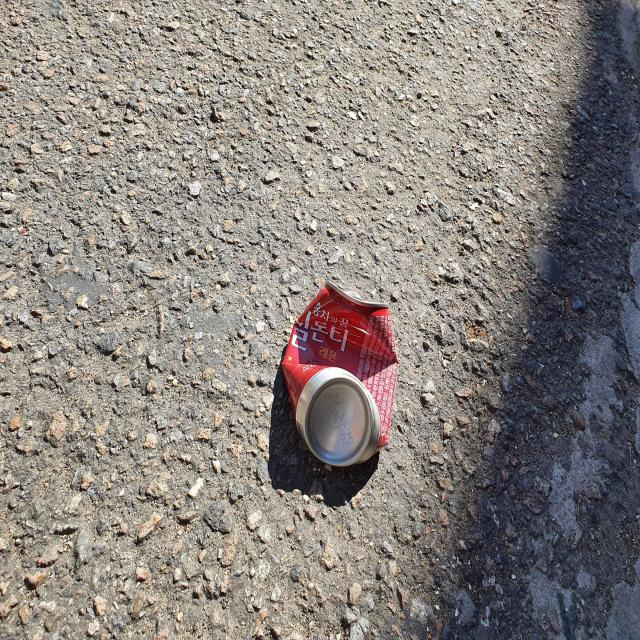can: (282, 280, 399, 467)
